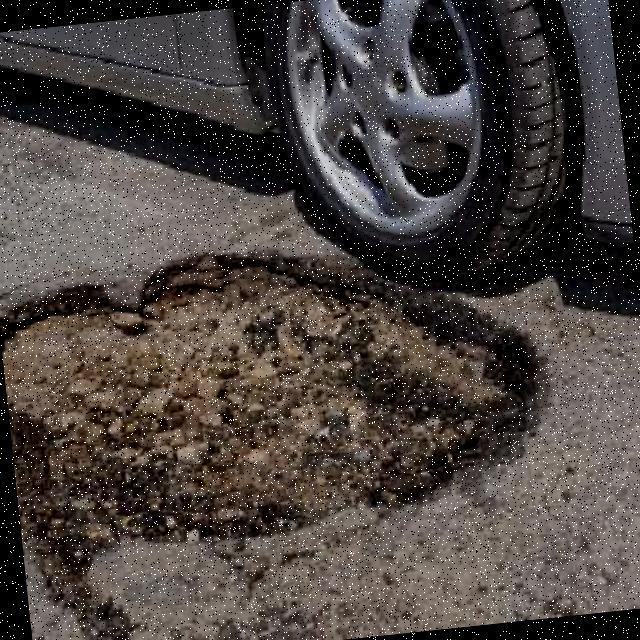Pothole: (0, 247, 544, 640)
